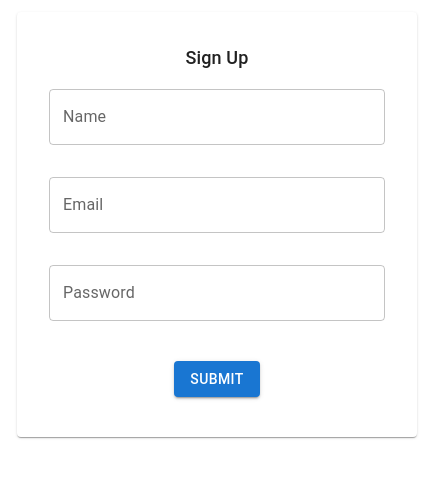
Test: Signup Component › shows error when signup fails
Step 1. Type "Milena" into the field labelled "Name" → point(217, 117), box [49,89,385,145]
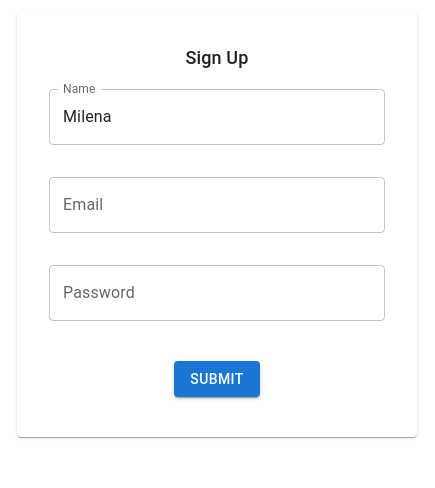
Step 2. Type "used@test.com" into the field labelled "Email" → point(217, 205), box [49,177,385,233]
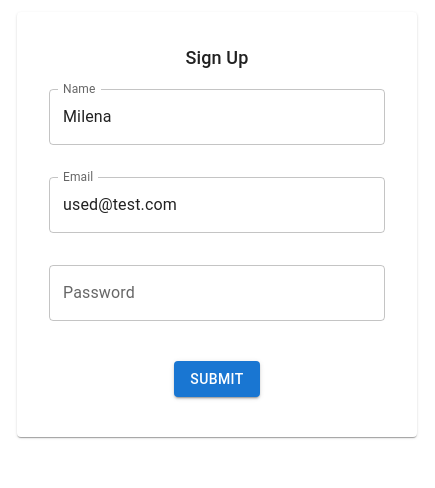
Step 3. Type "123456" into the password field labelled "Password" → point(217, 293), box [49,265,385,321]
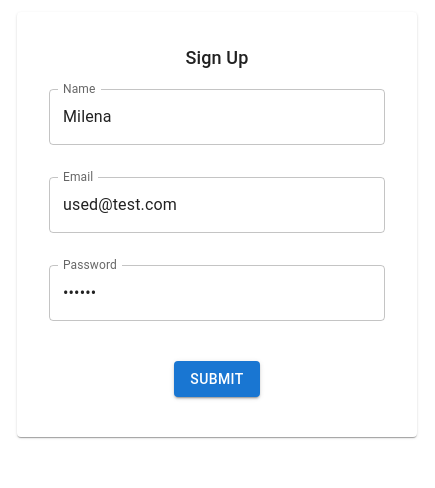
Step 4. Click the button "Submit" → point(217, 379), box [174,361,260,397]
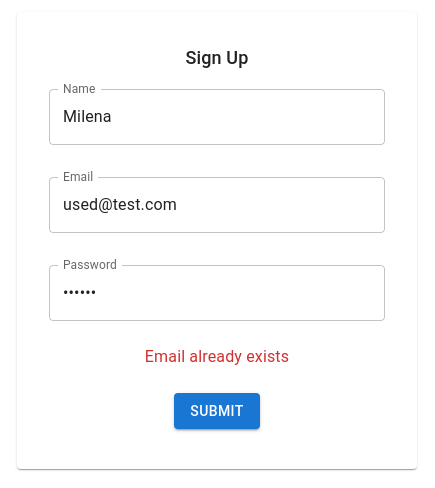
Expected: the text "Email already exists" is shown, [145,347,289,366]
